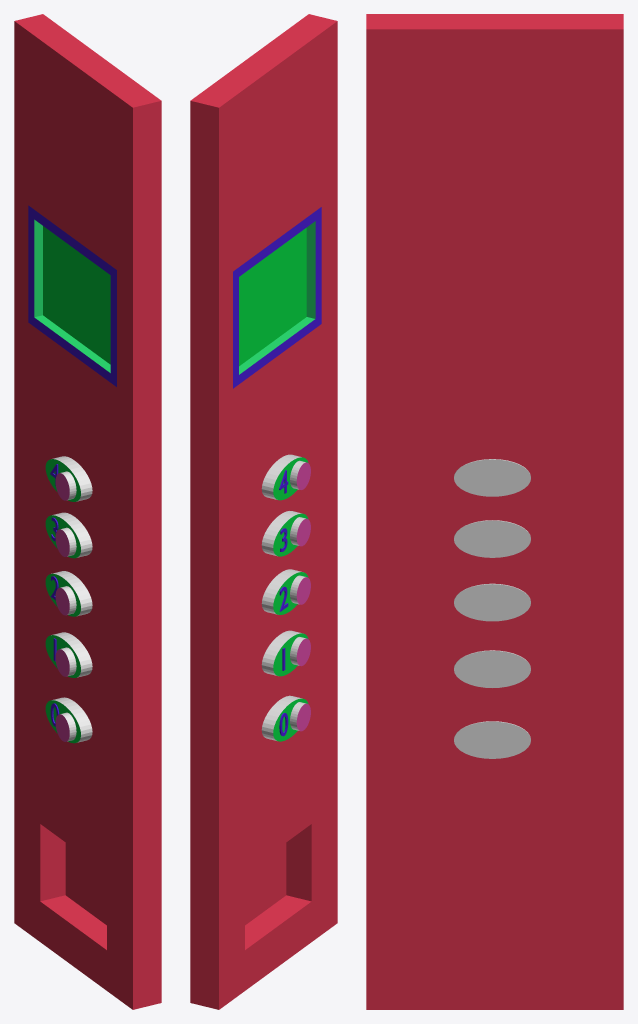
The model's file is controller.fbx.
3 views of the same model, side by side, from view 1: azimuth 30°, elevation 25°; view 2: azimuth 150°, elevation 25°; view 3: azimuth 270°, elevation 25° (orthographic). The views are drawn at different scales.
Visible parts, largest first — view 1: box, button1, button4, button2, button0, button3; view 2: box, button3, button2, button0, button1, button4; view 3: box.
Boxes of the visible parts, bbox=[...] form: box: bbox=[14, 14, 161, 1009]; button1: bbox=[55, 647, 76, 676]; button4: bbox=[55, 471, 76, 500]; button2: bbox=[55, 586, 76, 615]; button0: bbox=[55, 712, 76, 741]; button3: bbox=[55, 527, 76, 556]; box: bbox=[190, 14, 337, 1009]; button3: bbox=[290, 517, 310, 546]; button2: bbox=[290, 575, 310, 604]; button0: bbox=[290, 702, 310, 731]; button1: bbox=[290, 637, 310, 666]; button4: bbox=[290, 460, 310, 489]; box: bbox=[366, 14, 623, 1009].
Size of the model in its own units: 11.64 by 210 by 50.
